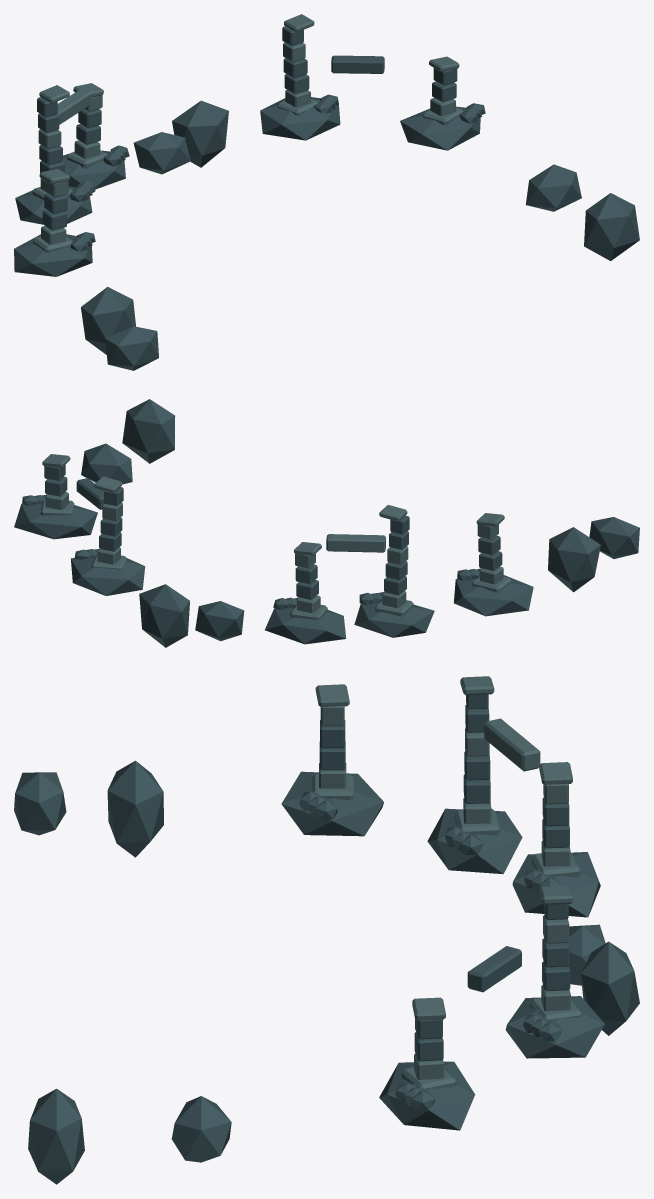
The model's file is Arena_Cenario.glb.
The picture shows the model from 3 angles, top to bottom: view 1: azimuth 30°, elevation 25°; view 2: azimuth 150°, elevation 25°; view 3: azimuth 270°, elevation 25°; orthographic projection. The views are drawn at different scales.
Visible parts, largest first — view 1: Arena_Background; view 2: Arena_Background; view 3: Arena_Background.
Boxes of the visible parts, x1,y1,x2,y2 form: Arena_Background: (14, 14, 639, 370); Arena_Background: (14, 399, 639, 647); Arena_Background: (14, 676, 639, 1184).
Bounding box in the file's own units: 19.76 × 5.67 × 14.29.
